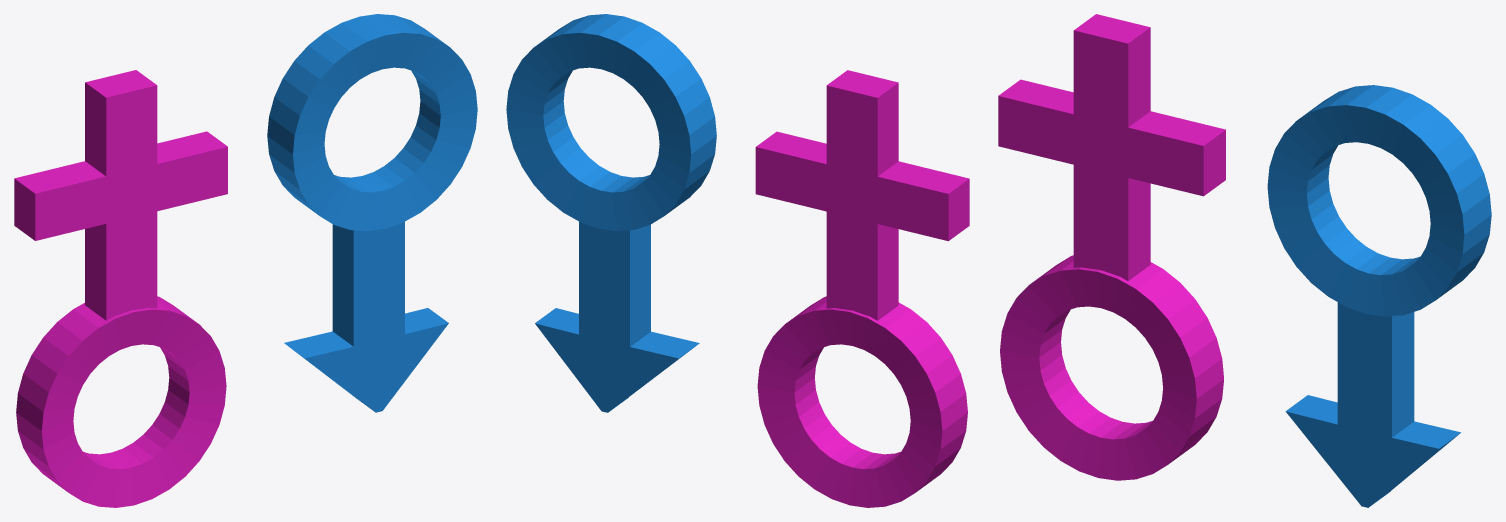
The picture shows the model from 3 angles, left to right: view 1: azimuth 30°, elevation 25°; view 2: azimuth 150°, elevation 25°; view 3: azimuth 330°, elevation 25°; orthographic projection. The views are drawn at different scales.
Visible parts, largest first — view 1: Circle.001, Cube, Circle, Cube.001; view 2: Circle.001, Cube, Circle, Cube.001; view 3: Circle.001, Cube, Circle, Cube.001.
Boxes of the visible parts, <box> form: Circle.001: <box>267,14,477,231</box>; Cube: <box>14,70,227,320</box>; Circle: <box>16,296,226,507</box>; Cube.001: <box>284,221,448,412</box>; Circle.001: <box>506,14,716,231</box>; Cube: <box>755,70,969,320</box>; Circle: <box>757,296,967,507</box>; Cube.001: <box>535,221,699,412</box>; Circle.001: <box>1267,85,1491,316</box>; Cube: <box>998,14,1225,280</box>; Circle: <box>1000,255,1223,480</box>; Cube.001: <box>1285,302,1460,507</box>.
Size of the model in its own units: 0.982 by 0.8791 by 0.0993.
